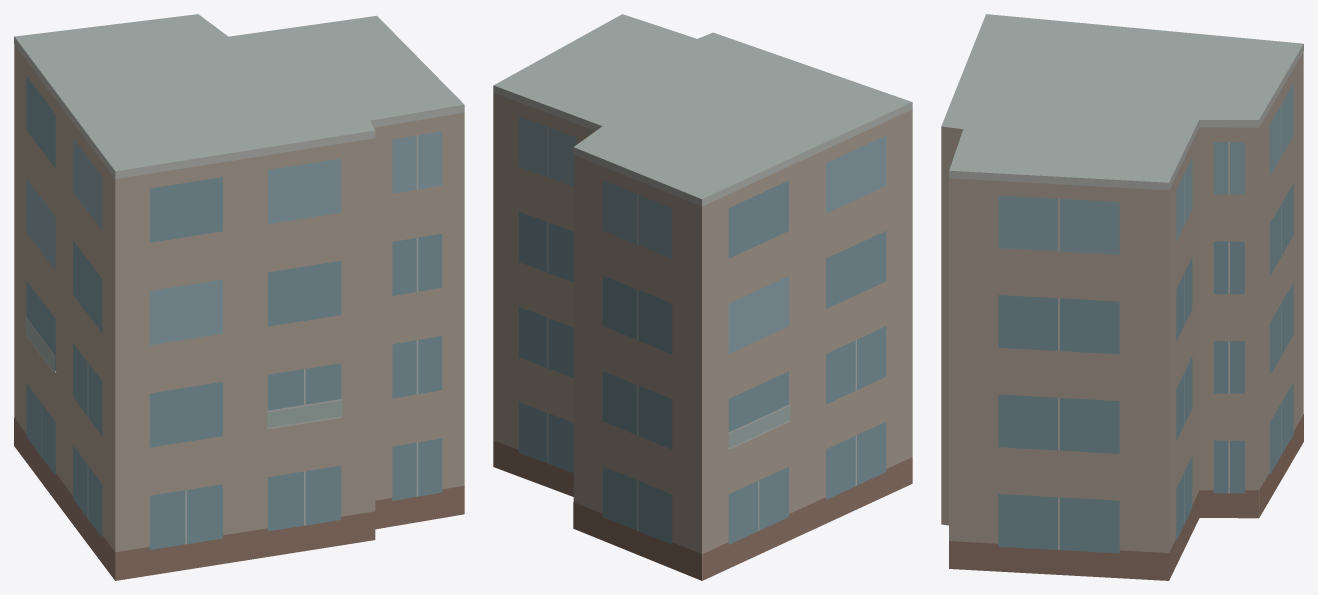
The model's file is survey-upis-32509256.glb.
The picture shows the model from 3 angles, left to right: view 1: azimuth 30°, elevation 25°; view 2: azimuth 150°, elevation 25°; view 3: azimuth 270°, elevation 25°; orthographic projection. The views are drawn at different scales.
Visible parts, largest first — view 1: survey-upis-32509256.tmp; view 2: survey-upis-32509256.tmp; view 3: survey-upis-32509256.tmp.
Boxes of the visible parts, bbox=[...] form: survey-upis-32509256.tmp: bbox=[14, 14, 464, 580]; survey-upis-32509256.tmp: bbox=[493, 14, 912, 580]; survey-upis-32509256.tmp: bbox=[941, 14, 1303, 580].
Bounding box in the file's own units: 11.65 × 12.8 × 10.57.
